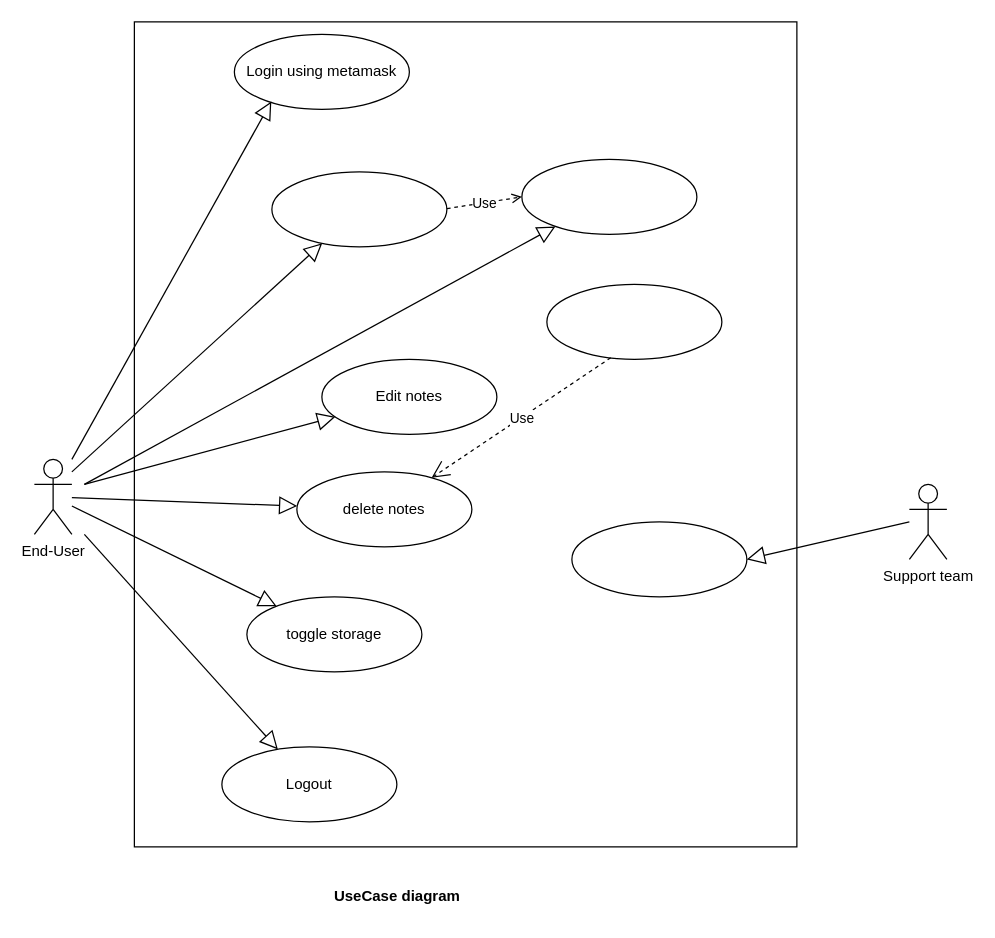
This 995x938 diagram has some shape labels left out. Here are the shapes that lost their labels. From the top down, the centre of each, then its label:
At point 359,209: "create notes".
At point 609,196: "Save notes".
At point 634,321: "automatic deletion".
At point 659,559: "handle issues in email/ gitlab".
